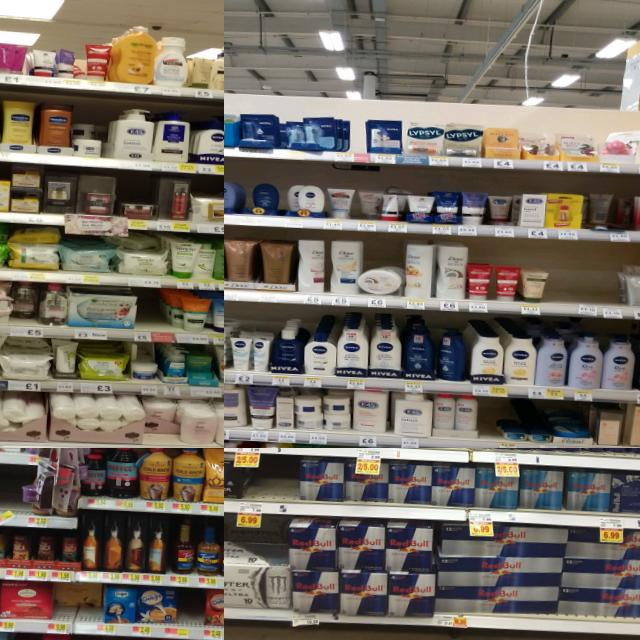100% O.O.S: (546, 256, 600, 318), (598, 259, 622, 319), (477, 399, 498, 448), (348, 120, 366, 162)
100- O.O.S: (244, 456, 296, 514), (135, 289, 161, 342), (0, 463, 22, 525), (178, 589, 204, 639)
